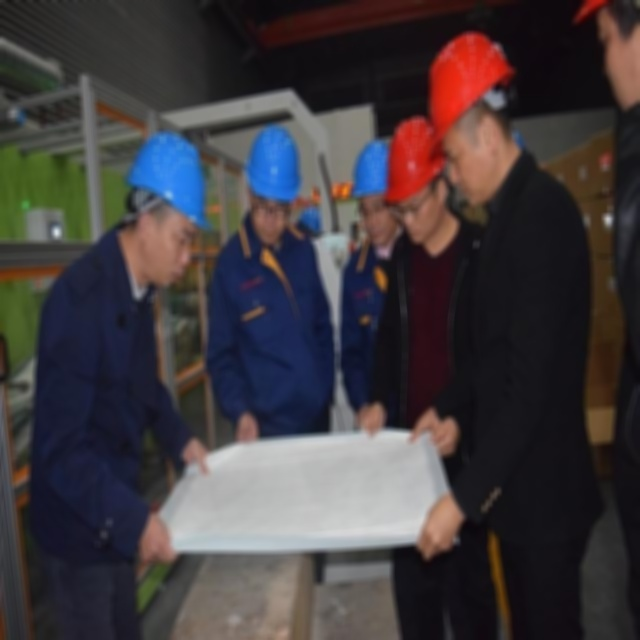Con_Casco: (124, 124, 212, 288), (433, 33, 514, 198), (244, 126, 302, 237)
